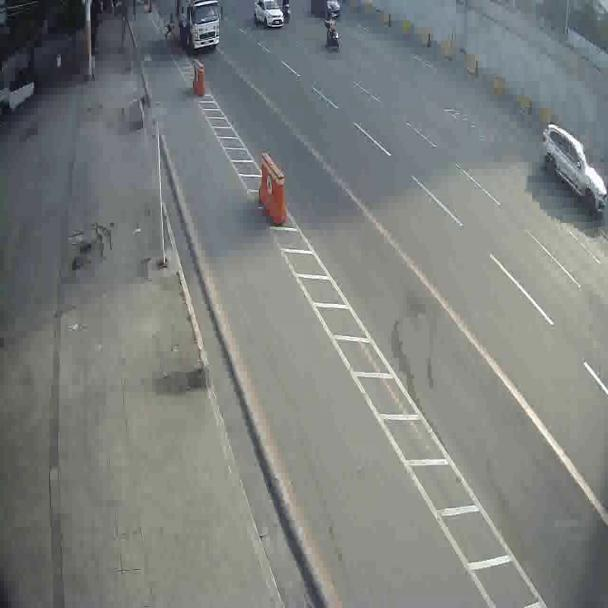motorcyclist: (321, 15, 341, 52)
vehicle: (539, 121, 606, 212), (176, 1, 218, 51), (253, 1, 286, 28)
